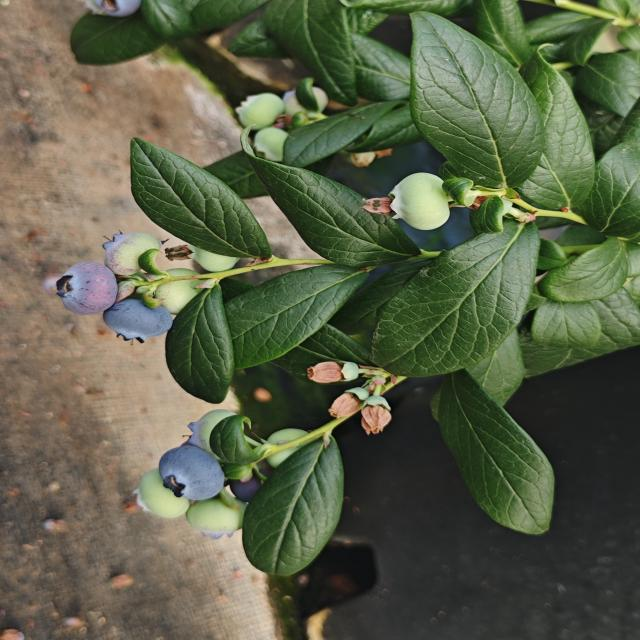ripe: (155, 442, 229, 503), (52, 260, 120, 318), (100, 296, 176, 345), (216, 461, 271, 507)
